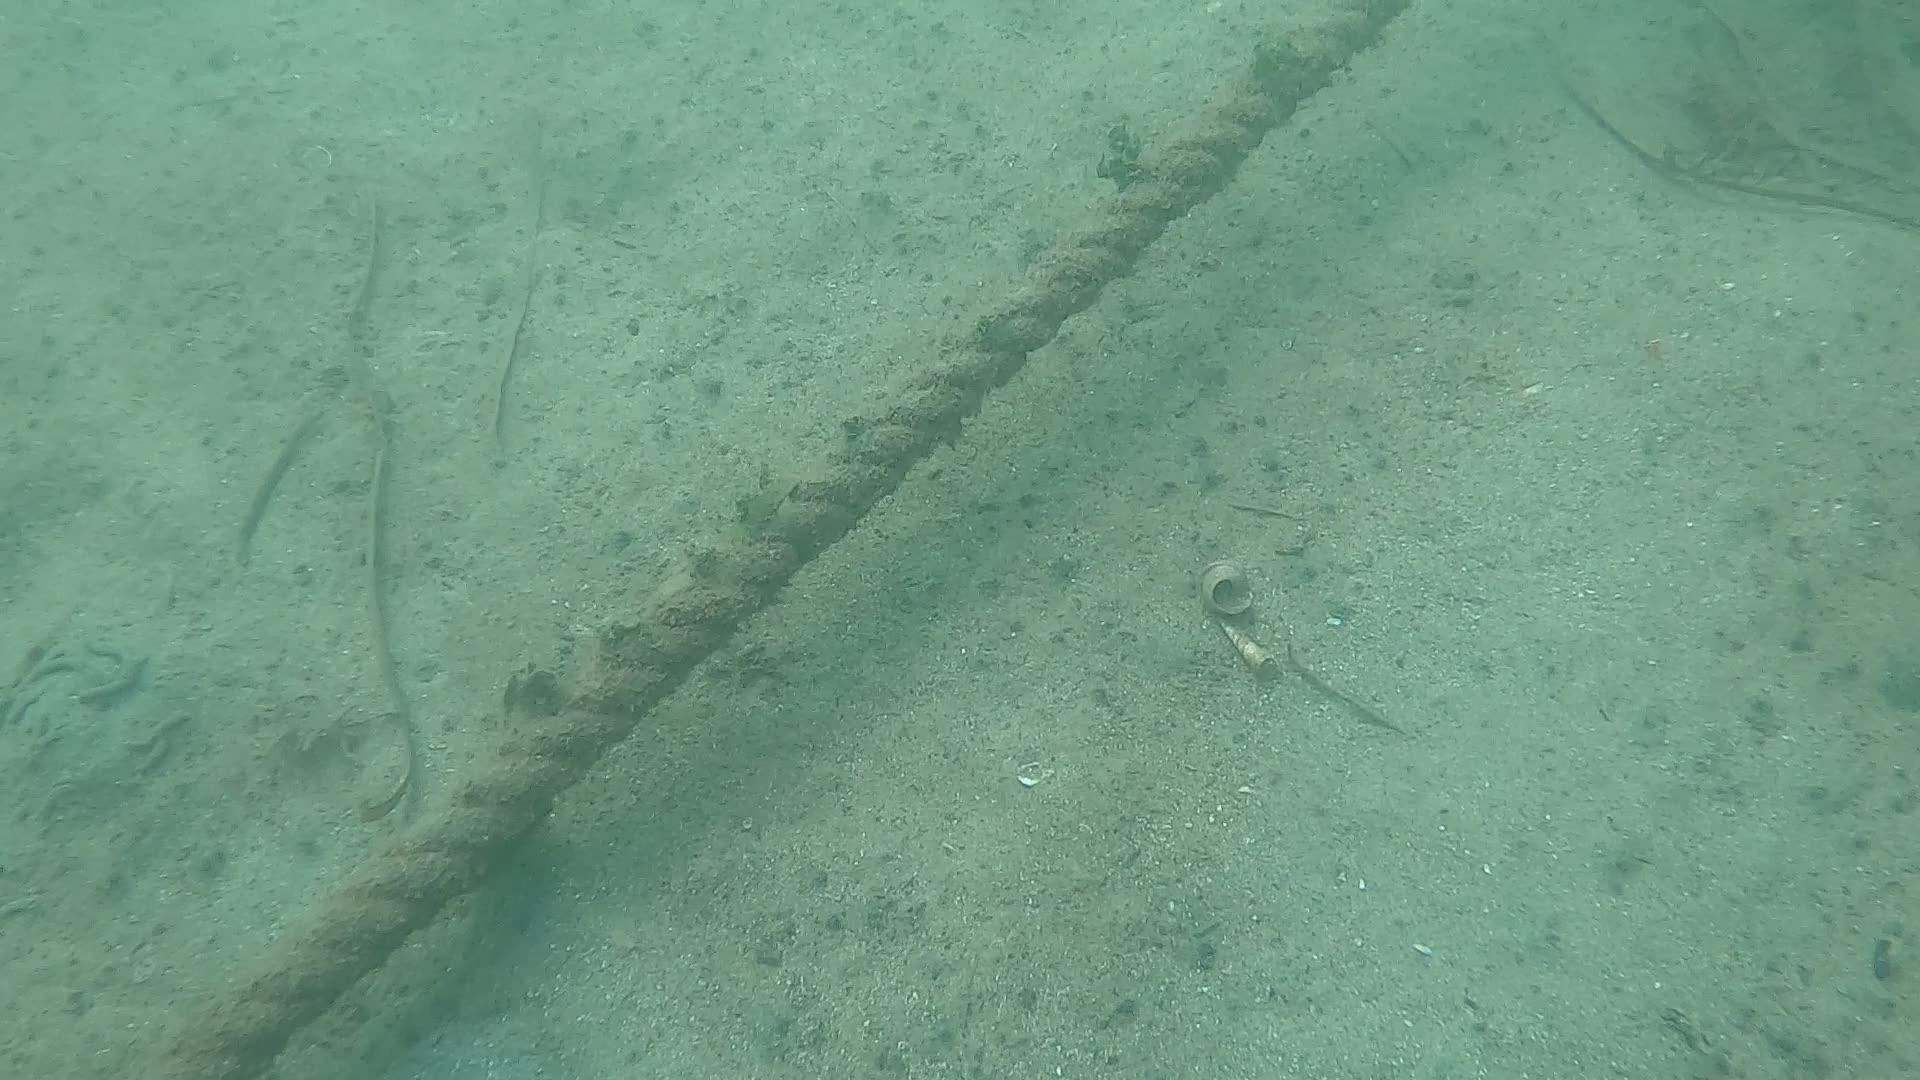rope: (145, 0, 1408, 1080)
